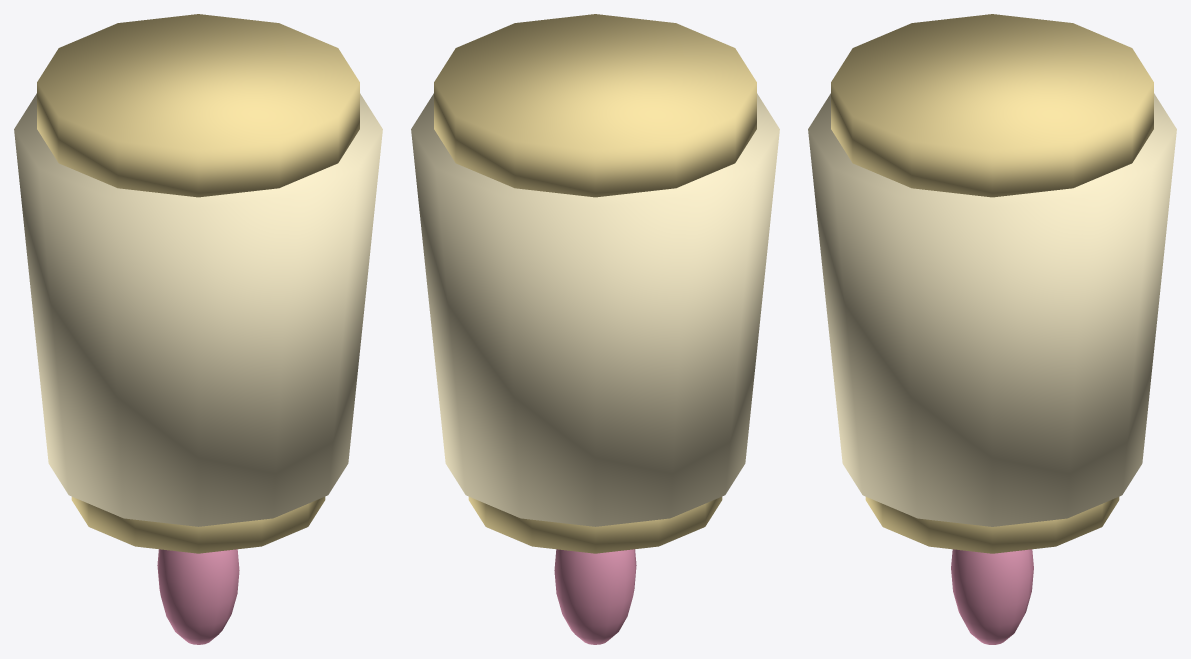
Rendered from FloatingLantern.fbx.
3 views of the same model, side by side, from view 1: azimuth 30°, elevation 25°; view 2: azimuth 150°, elevation 25°; view 3: azimuth 270°, elevation 25° (orthographic).
Visible parts, largest first — view 1: FloatingLantern; view 2: FloatingLantern; view 3: FloatingLantern.
Boxes of the visible parts, x1,y1,x2,y2 form: FloatingLantern: (14, 14, 382, 644); FloatingLantern: (411, 14, 779, 644); FloatingLantern: (808, 14, 1176, 644).
Size of the model in its own units: 0.32 by 0.537 by 0.32.
